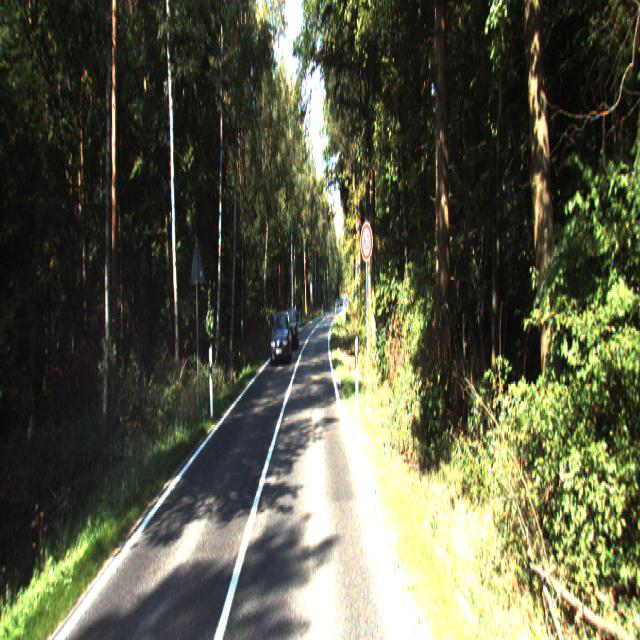Car: (270, 311, 292, 367)
